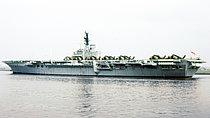MIL_Ship: (1, 30, 207, 79)
